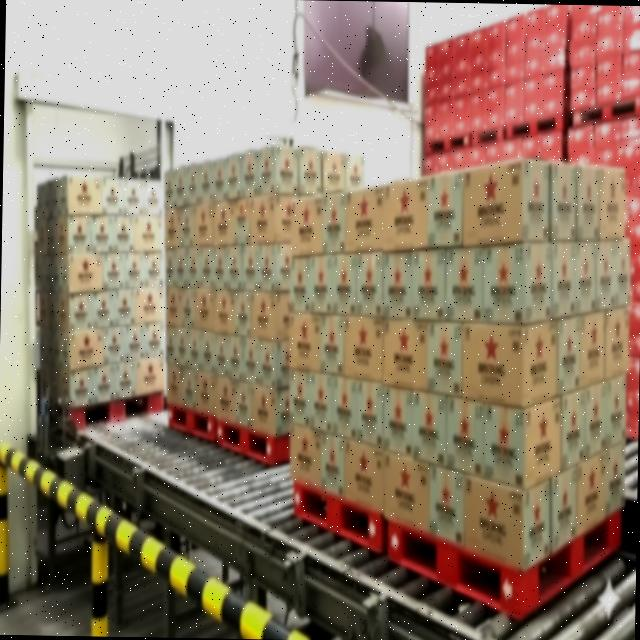pallet: (382, 154, 636, 634), (215, 110, 368, 471), (278, 166, 392, 564), (28, 167, 172, 434), (155, 156, 224, 443)
